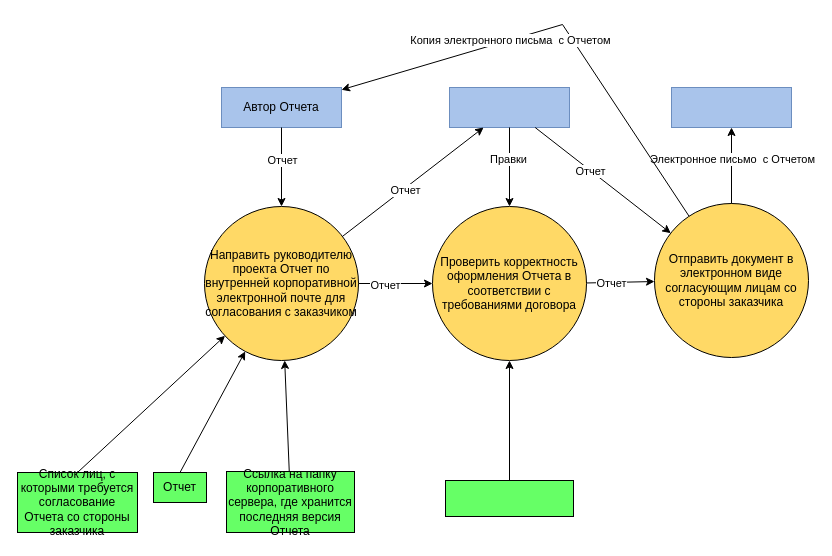
The diagram is 832 pixels wide and 556 high, and some of its shapes have lost their labels. Here are the shapes that lost their labels. From the top down, the box of each, then its label:
(448, 86, 570, 128): Руководитель проекта
(670, 86, 792, 128): Согласующие лица со стороны заказчика
(444, 480, 574, 516): Требования договора
